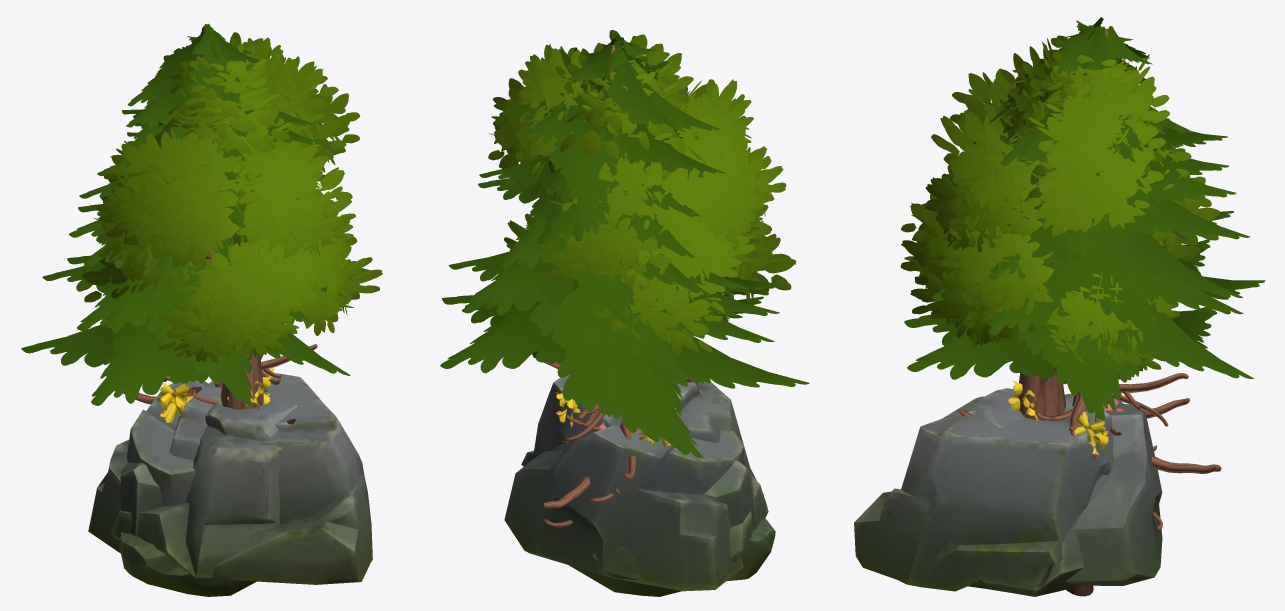
Rendered from nature.glb.
The picture shows the model from 3 angles, left to right: view 1: azimuth 30°, elevation 25°; view 2: azimuth 150°, elevation 25°; view 3: azimuth 270°, elevation 25°; orthographic projection. The views are drawn at different scales.
Visible parts, largest first — view 1: CommonTree_1, Rock_Medium_3, Pine_1, Rock_Medium_1, Pine_3, Rock_Medium_2, Flower_4_Group; view 2: CommonTree_1, Pine_1, Rock_Medium_2, Pine_3, Rock_Medium_3, Rock_Medium_1; view 3: CommonTree_1, Pine_1, Rock_Medium_3, Rock_Medium_2, Pine_3, Rock_Medium_1, Flower_4_Group.
Part boxes in pixels (box(x1,y1,x2,y2)): CommonTree_1: box(82, 32, 382, 409); Rock_Medium_3: box(120, 373, 372, 596); Pine_1: box(21, 30, 369, 424); Rock_Medium_1: box(110, 404, 297, 577); Pine_3: box(42, 23, 345, 385); Rock_Medium_2: box(88, 380, 208, 553); Flower_4_Group: box(157, 368, 274, 423); CommonTree_1: box(488, 30, 796, 358); Pine_1: box(440, 37, 809, 508); Rock_Medium_2: box(504, 425, 744, 591); Pine_3: box(462, 34, 779, 527); Rock_Medium_3: box(521, 375, 775, 580); Rock_Medium_1: box(535, 381, 768, 596); CommonTree_1: box(900, 35, 1220, 596); Pine_1: box(904, 20, 1265, 473); Rock_Medium_3: box(854, 393, 1113, 591); Rock_Medium_2: box(1065, 400, 1162, 585); Pine_3: box(932, 17, 1250, 530); Rock_Medium_1: box(942, 388, 1110, 596); Flower_4_Group: box(1008, 380, 1108, 476).
Size of the model in its own units: 4.94 by 7.47 by 5.06.
Materials: 9 (9 with a texture image).
